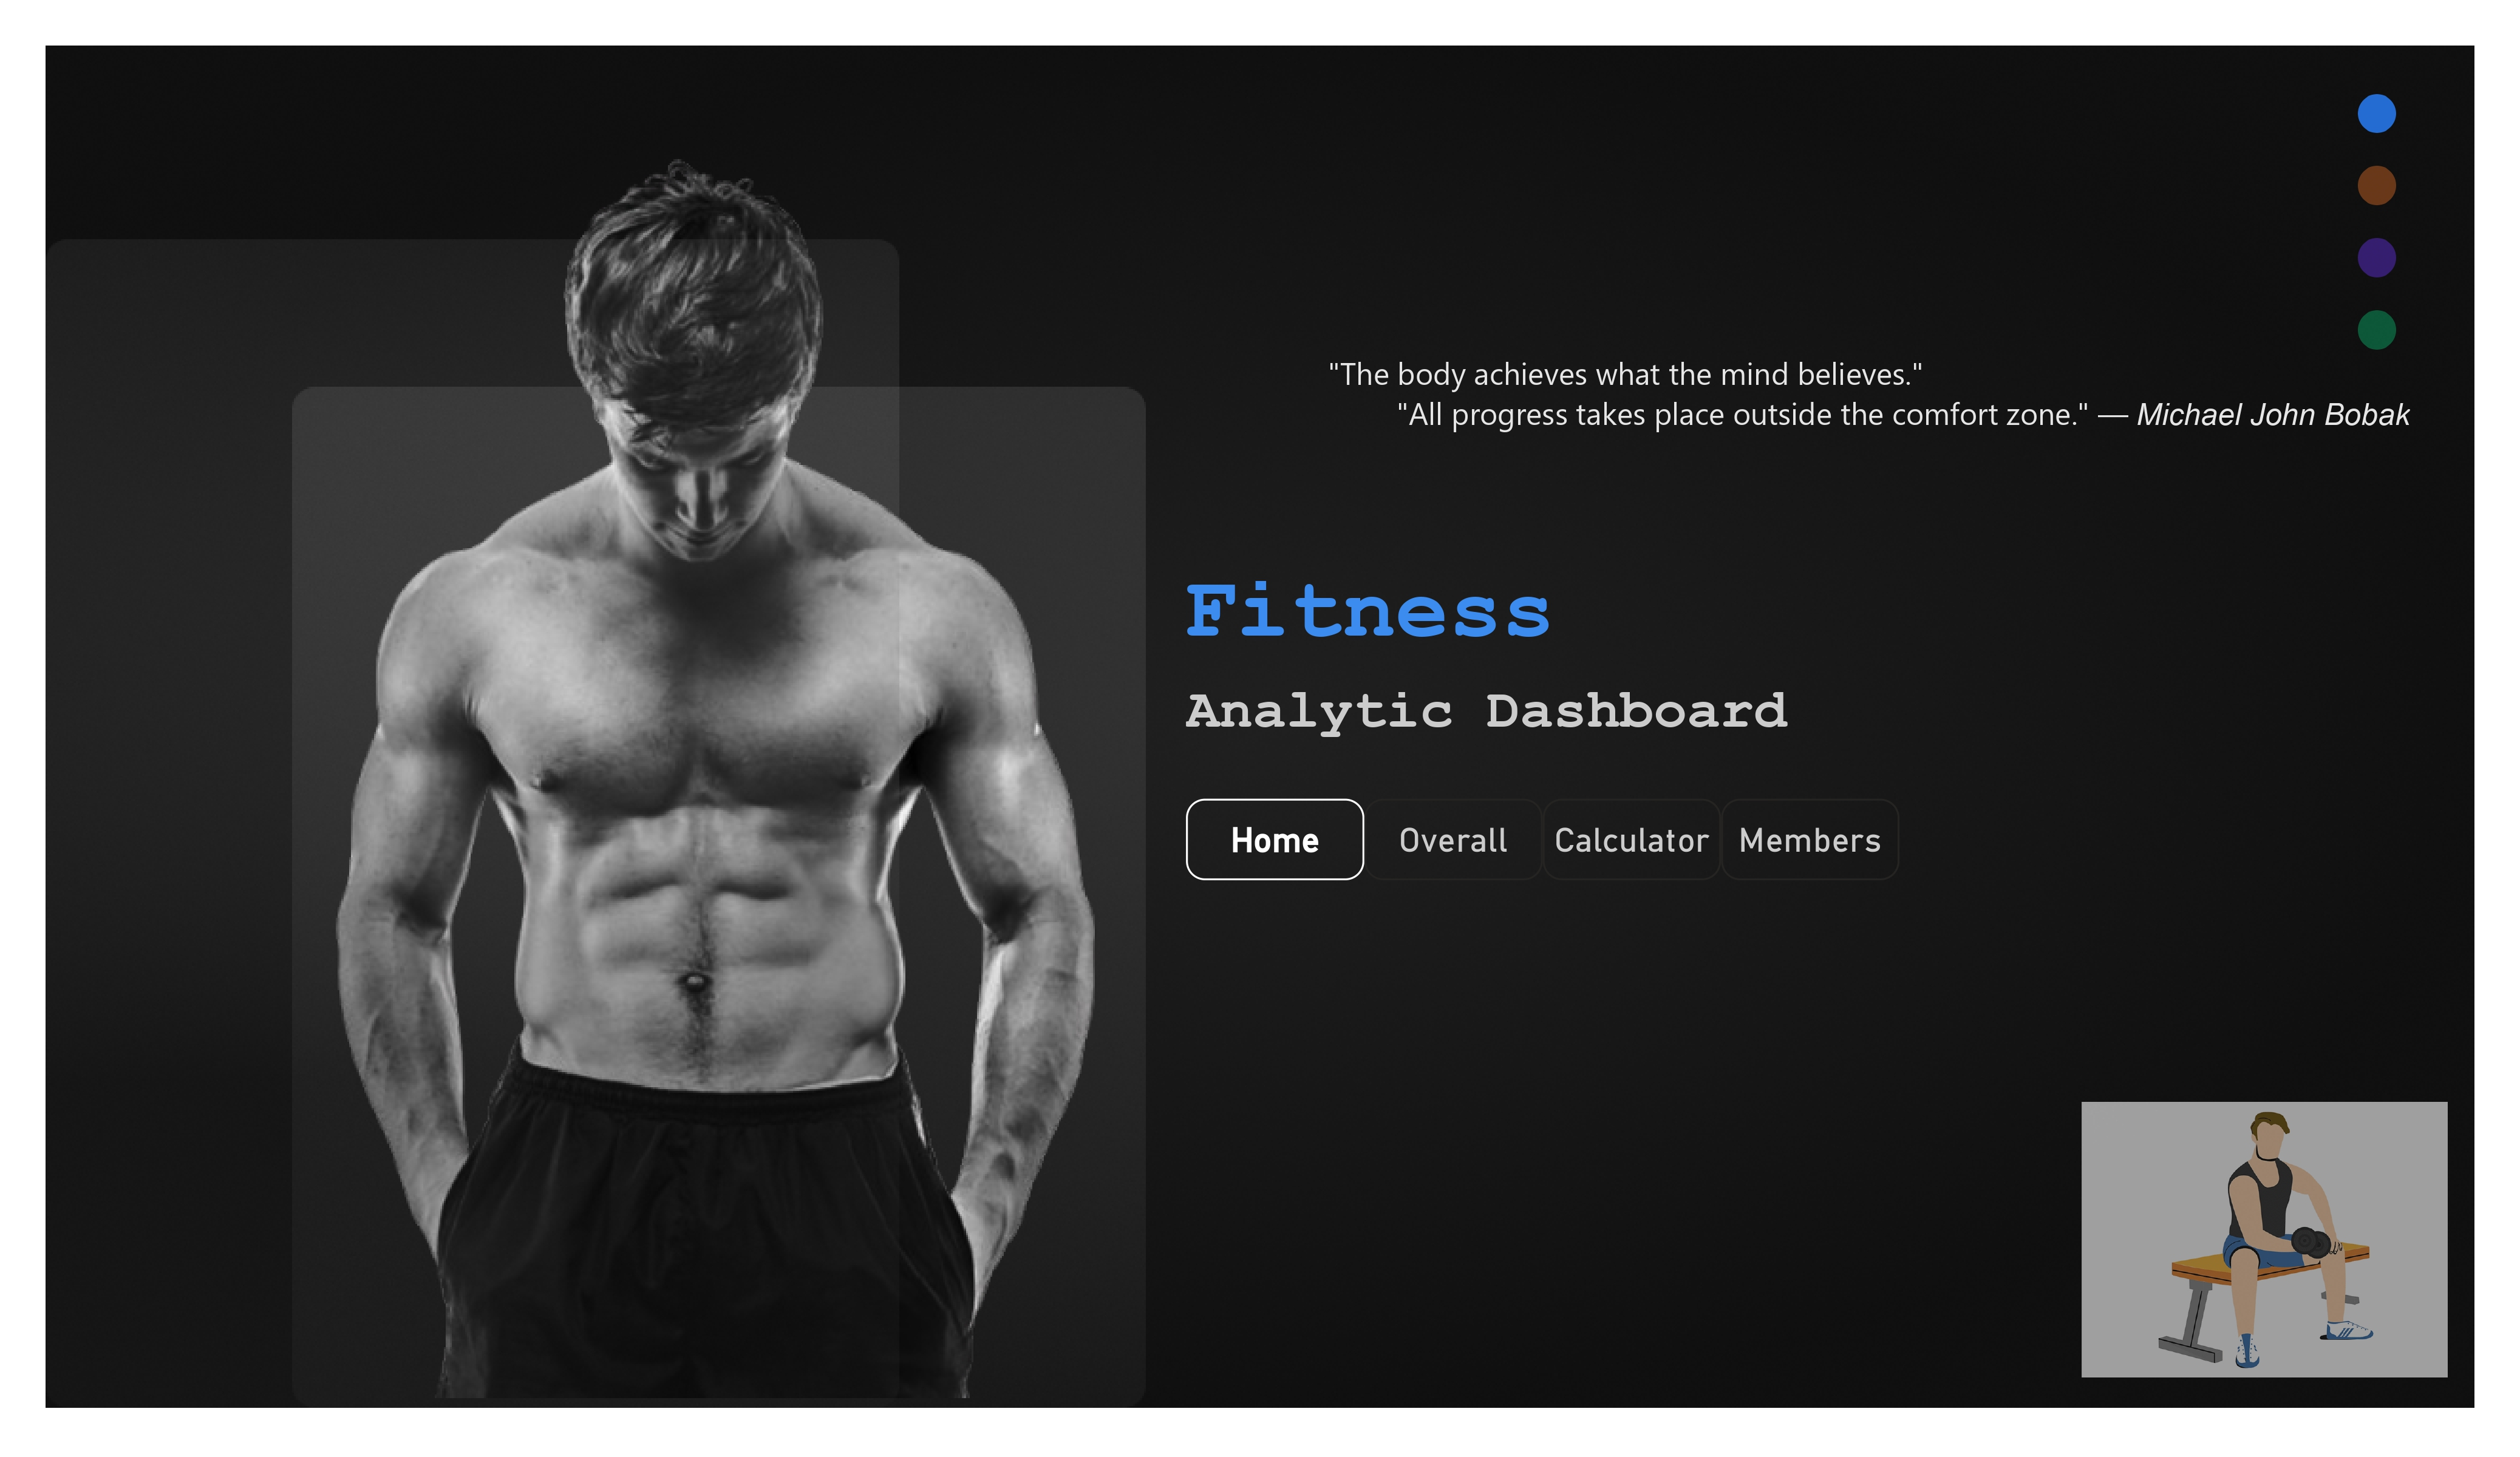

The dashboard page shown, as its layout file describes it:
{"tool":"powerbi","page":{"name":"Home","canvas":[1280,720],"ordinal":0},"visuals":[{"type":"shape","box":[584,264.9,227.5,68.4],"z":0},{"type":"shape","box":[584,333.3,351.5,38.2],"z":1000},{"type":"pageNavigator","box":[601,396.9,378.6,42.9],"z":2000},{"type":"advancedSlicerVisual","fields":{"Values":["ColorCodes.Icon"]},"box":[1207.3,15.9,42.9,157.5],"z":3000},{"type":"image","box":[1073.4,538.6,192.8,181.4],"z":4000},{"type":"textbox","box":[670.9,156.9,580.2,158.7],"z":5000}]}

Visuals, with their boxes on the page's 1280x720 design canvas (x1, y1, x2, y2). These are canvas units, not pixel positions in the 2520x1457 screenshot, which may show the page scaled, cropped or inside an application window:
shape: 584,265,812,333
shape: 584,333,936,372
pageNavigator: 601,397,980,440
advancedSlicerVisual - ColorCodes.Icon: 1207,16,1250,173
image: 1073,539,1266,720
textbox: 671,157,1251,316
